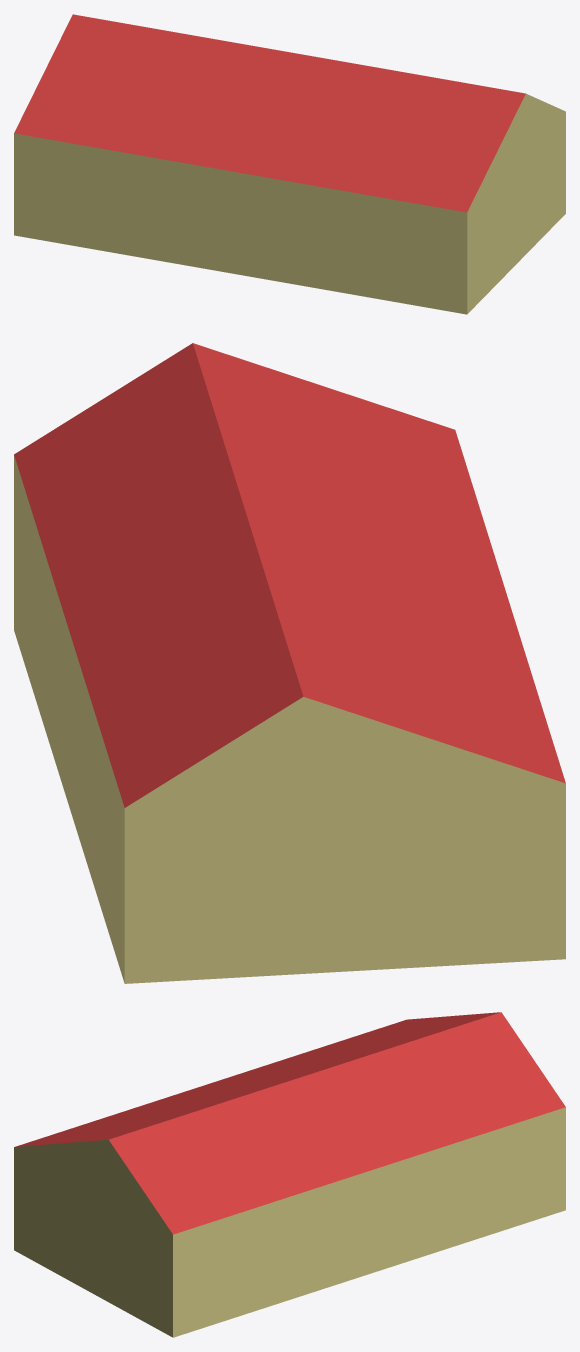
The picture shows the model from 3 angles, top to bottom: view 1: azimuth 30°, elevation 25°; view 2: azimuth 150°, elevation 25°; view 3: azimuth 270°, elevation 25°; orthographic projection. The views are drawn at different scales.
Bounding box in the file's own units: 27.07 × 29.36 × 9.55.
